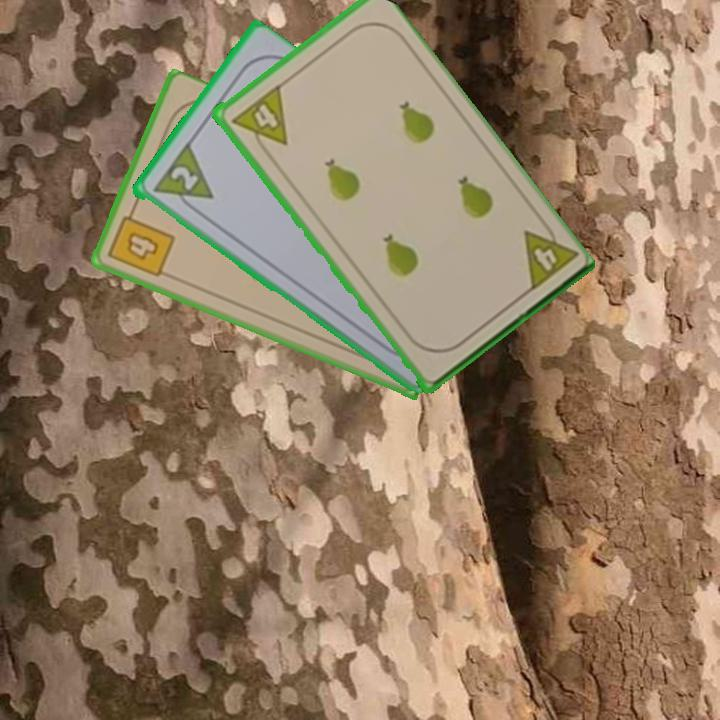2p: (148, 141, 216, 219)
4b: (104, 203, 178, 281)
4p: (519, 214, 579, 295), (227, 82, 290, 159)
